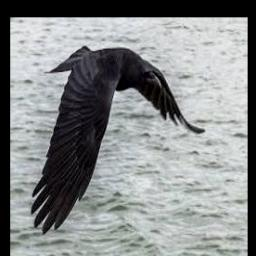Crow: (31, 43, 206, 234)
